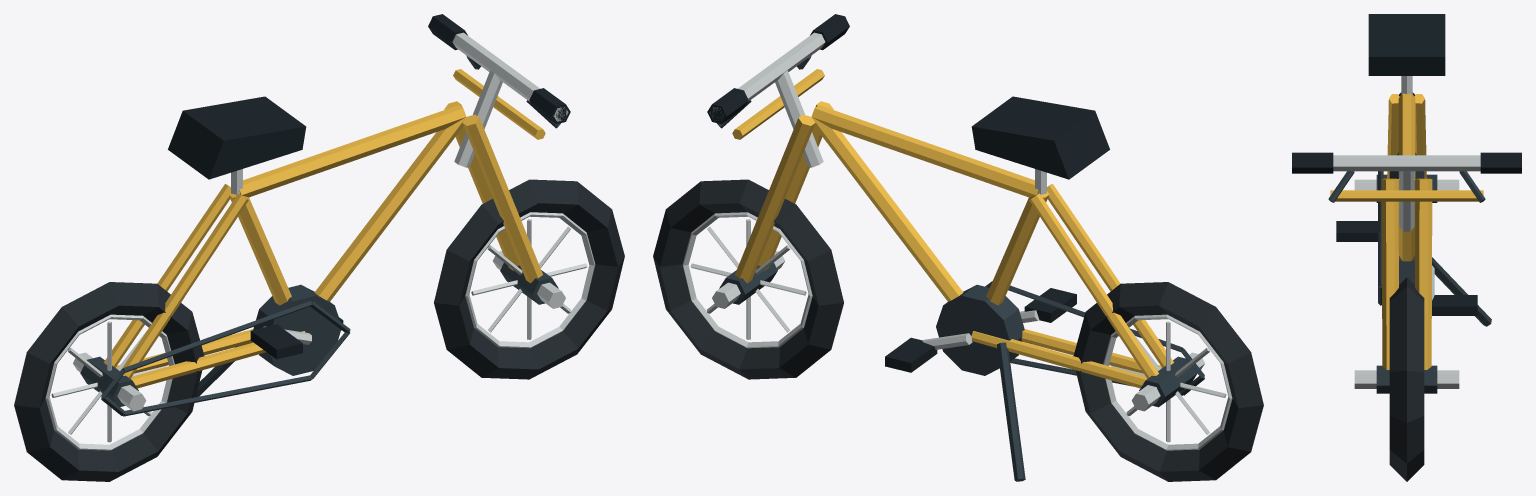
The model's file is b03_stunt_bmx_bicycle.glb.
The picture shows the model from 3 angles, left to right: view 1: azimuth 30°, elevation 25°; view 2: azimuth 150°, elevation 25°; view 3: azimuth 270°, elevation 25°; orthographic projection. The views are drawn at different scales.
Visible parts, largest first — view 1: b03_stunt_bmx_bicycle; view 2: b03_stunt_bmx_bicycle; view 3: b03_stunt_bmx_bicycle.
Part boxes in pixels (<box>): b03_stunt_bmx_bicycle: <box>14,14,624,481</box>; b03_stunt_bmx_bicycle: <box>653,14,1263,481</box>; b03_stunt_bmx_bicycle: <box>1292,14,1521,481</box>.
Bounding box in the file's own units: 1.63 × 0.85 × 0.57.
